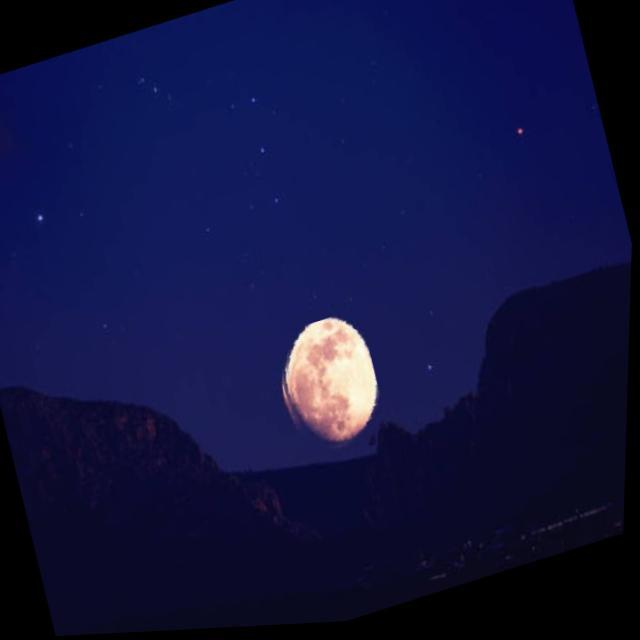moon: (265, 310, 396, 470)
